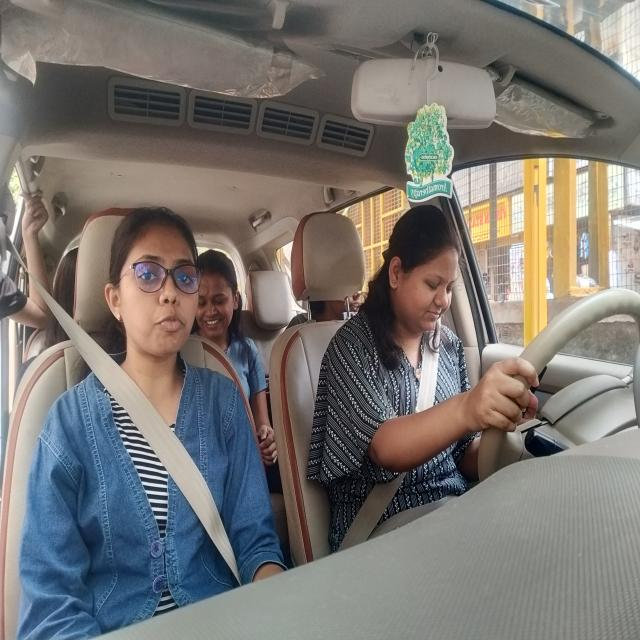drowsy: (381, 209, 468, 330)
person: (105, 210, 208, 360), (201, 250, 249, 344)
